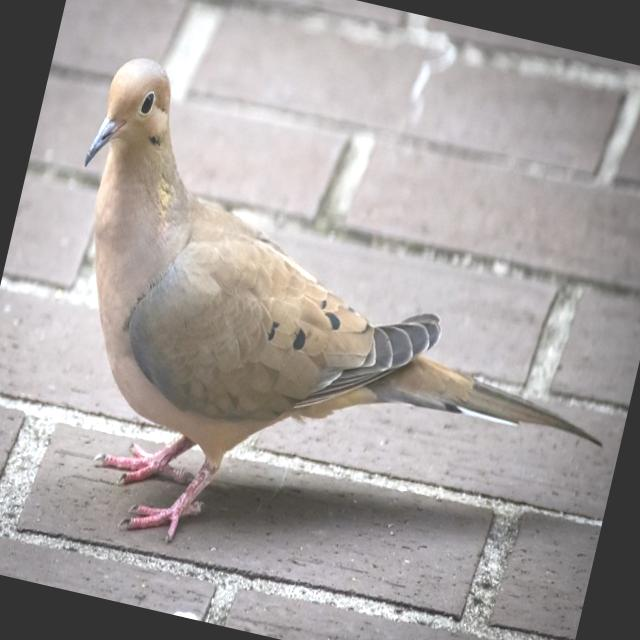bird: (0, 45, 640, 640)
